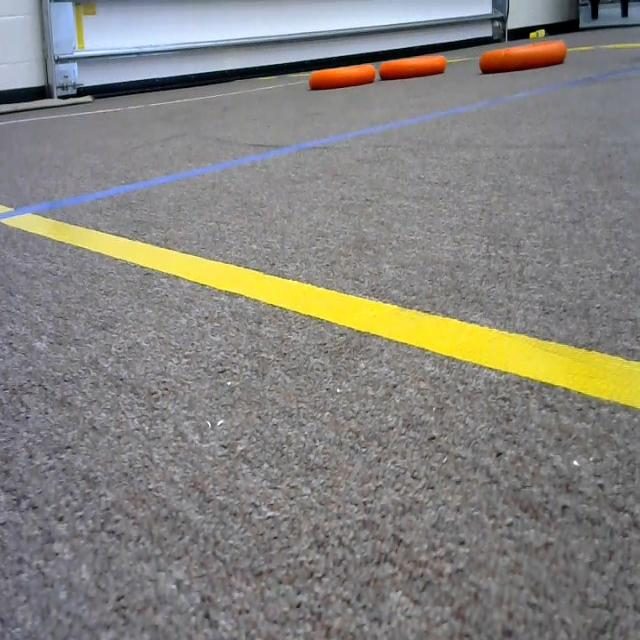note: (303, 54, 383, 93), (374, 42, 456, 78), (478, 44, 576, 73)
